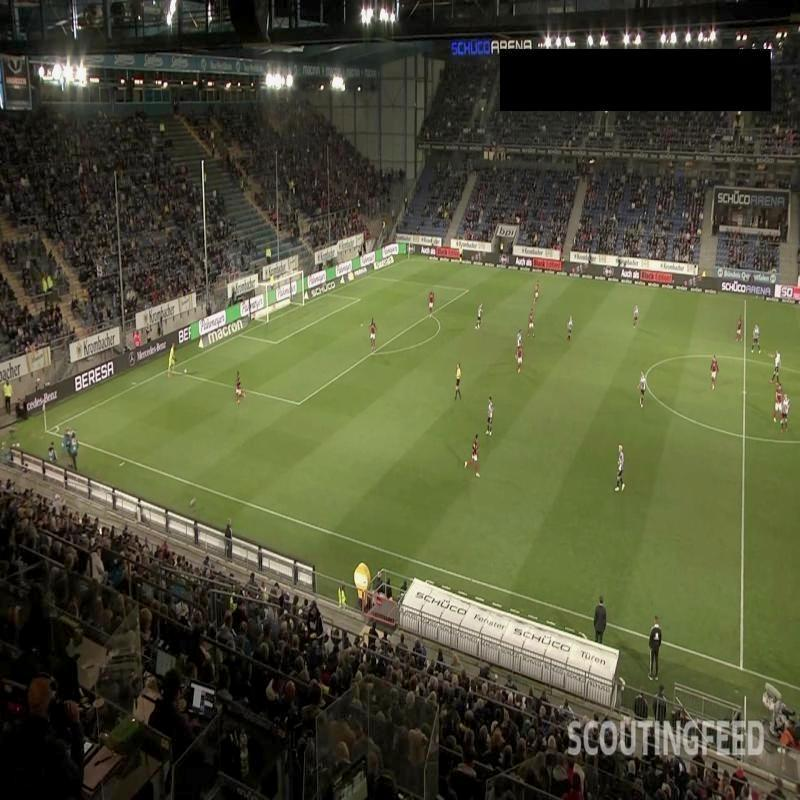1: (402, 250, 416, 264)
10: (423, 306, 437, 320)
11: (365, 345, 379, 359)
12: (292, 395, 306, 409)
13: (738, 290, 752, 304)
14: (738, 350, 752, 364)
15: (738, 428, 752, 442)
16: (734, 659, 748, 673)
2: (359, 268, 373, 282)
3: (320, 285, 334, 299)
4: (232, 327, 246, 341)
5: (161, 362, 175, 376)
7: (352, 292, 366, 306)
8: (268, 334, 282, 348)
9: (460, 282, 474, 296)
c: (638, 372, 652, 386)
